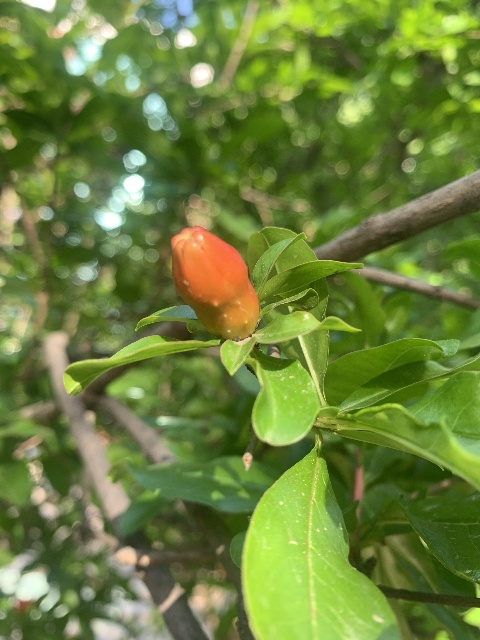bud: (170, 226, 258, 340)
